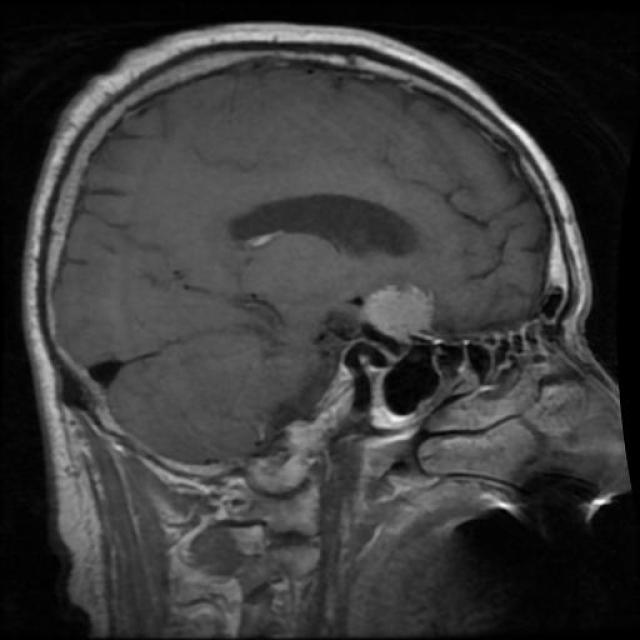pituitary: (352, 275, 444, 359)
